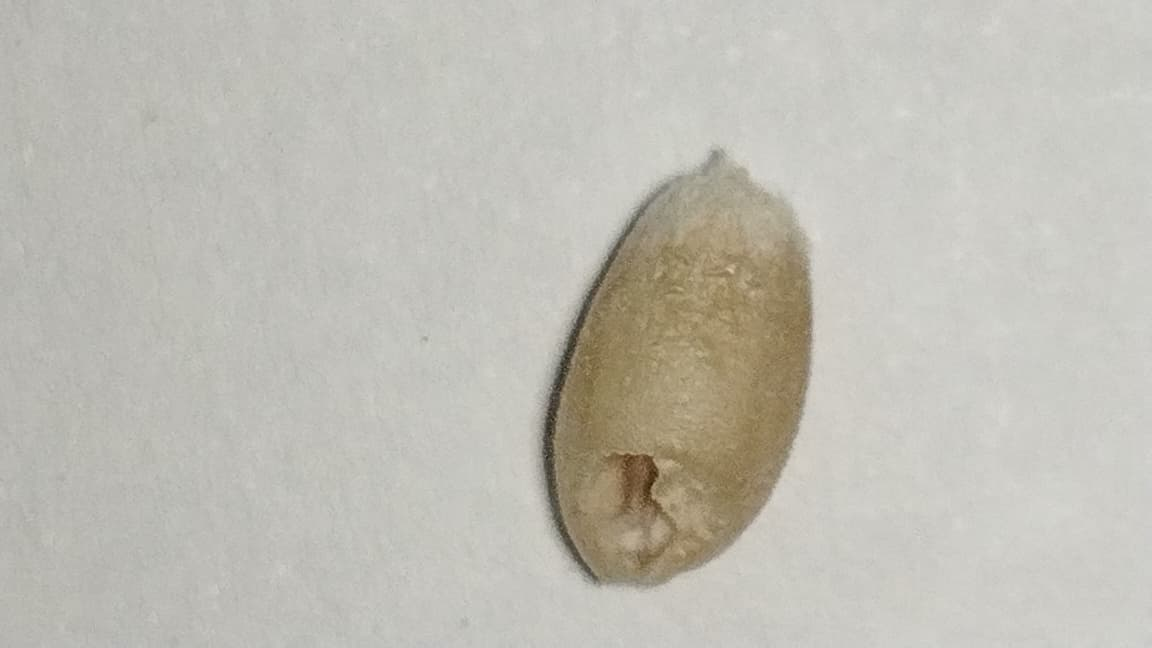damage: (544, 165, 812, 581)
insectdamage: (570, 421, 707, 574)
